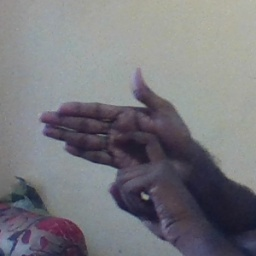R: (39, 62, 190, 195)
